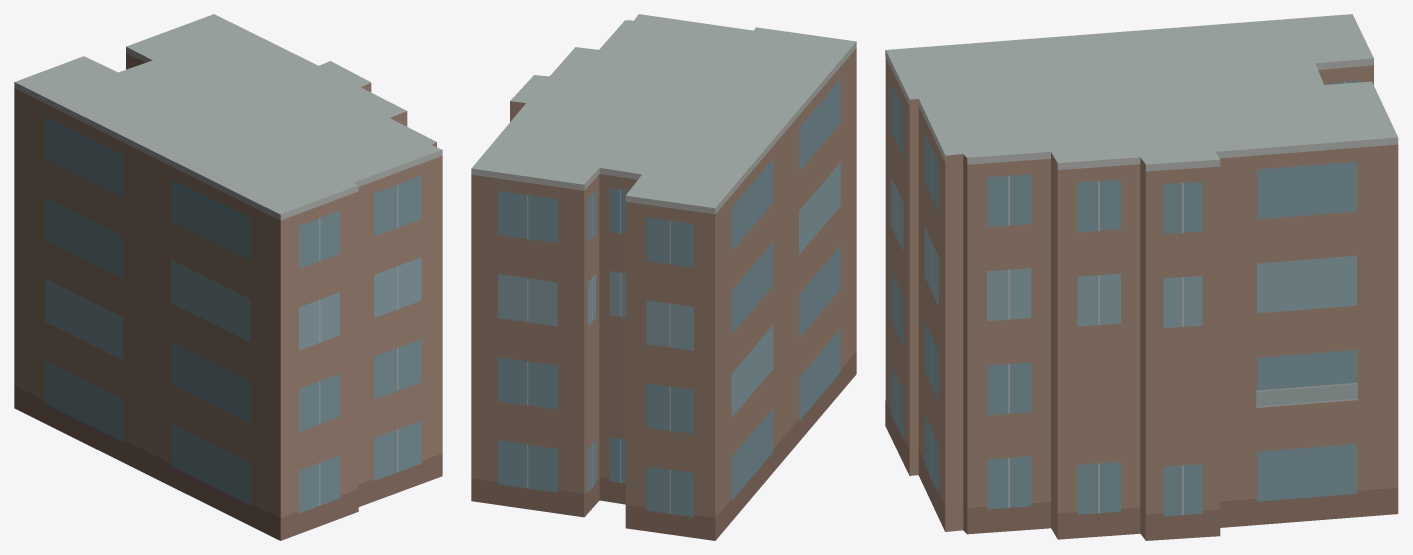
File: survey-upis-32983285.glb
The picture shows the model from 3 angles, left to right: view 1: azimuth 30°, elevation 25°; view 2: azimuth 150°, elevation 25°; view 3: azimuth 270°, elevation 25°; orthographic projection. The views are drawn at different scales.
Visible parts, largest first — view 1: survey-upis-32983285.tmp; view 2: survey-upis-32983285.tmp; view 3: survey-upis-32983285.tmp.
Boxes of the visible parts, <box> form: survey-upis-32983285.tmp: <box>14,14,442,540</box>; survey-upis-32983285.tmp: <box>471,14,856,540</box>; survey-upis-32983285.tmp: <box>885,14,1398,540</box>.
Bounding box in the file's own units: 11.37 × 13.25 × 16.37.
